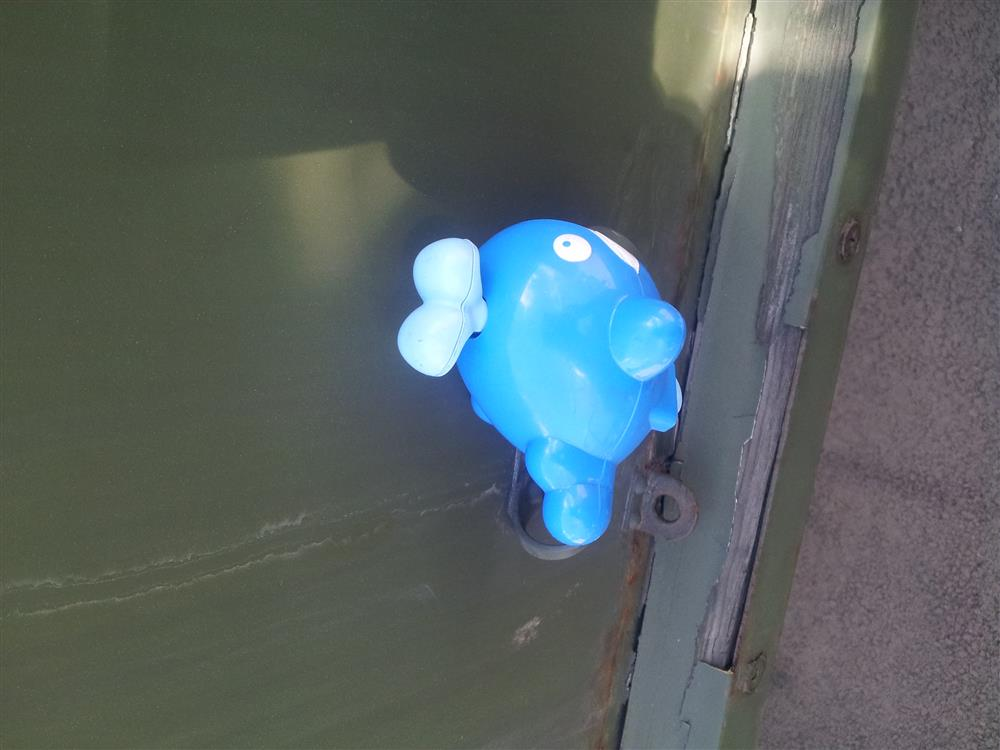toy_whale: (394, 219, 689, 557)
